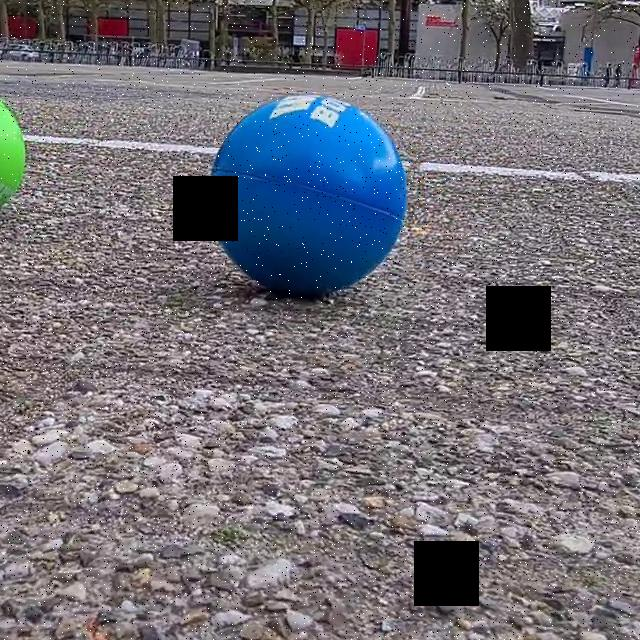ball: (208, 88, 412, 301)
